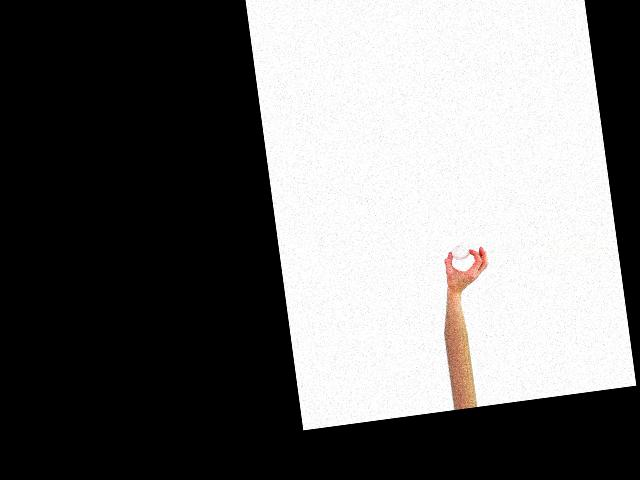egg: (450, 244, 470, 261)
